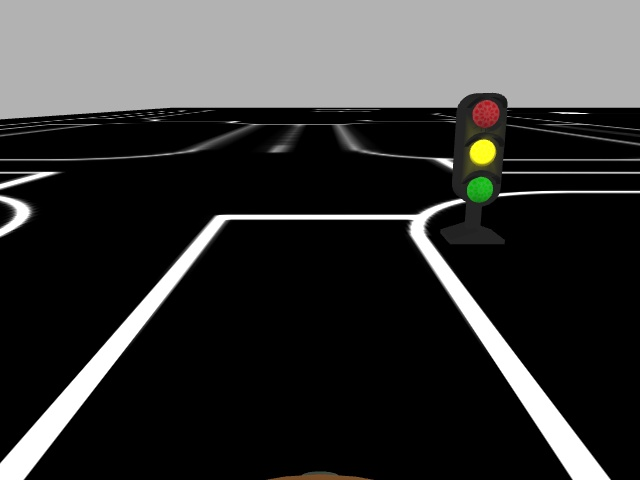yellow_light: (452, 92, 510, 207)
